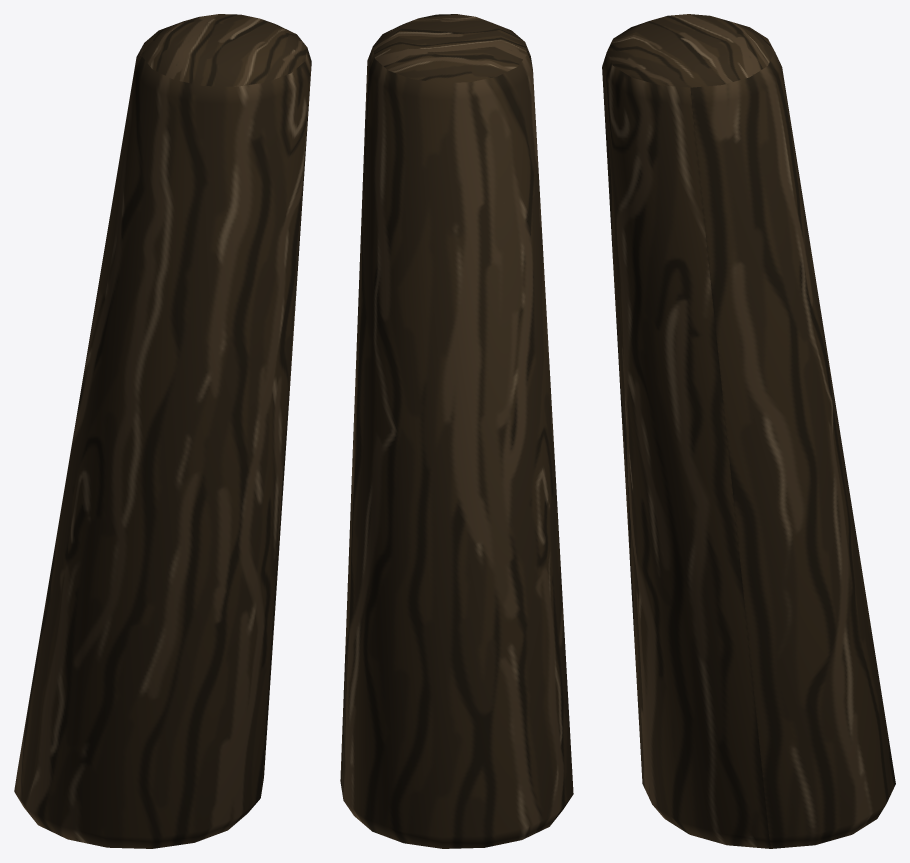
Rendered from SpruceTree1_Log2_v1.fbx.
The picture shows the model from 3 angles, left to right: view 1: azimuth 30°, elevation 25°; view 2: azimuth 150°, elevation 25°; view 3: azimuth 270°, elevation 25°; orthographic projection. The views are drawn at different scales.
Visible parts, largest first — view 1: ChoppedOfTree.003; view 2: ChoppedOfTree.003; view 3: ChoppedOfTree.003.
Part boxes in pixels (left/top/right/bottom): ChoppedOfTree.003: left=14, top=14, right=311, bottom=848; ChoppedOfTree.003: left=340, top=14, right=573, bottom=848; ChoppedOfTree.003: left=602, top=14, right=895, bottom=848.
Bounding box in the file's own units: 106 × 347 × 115.
